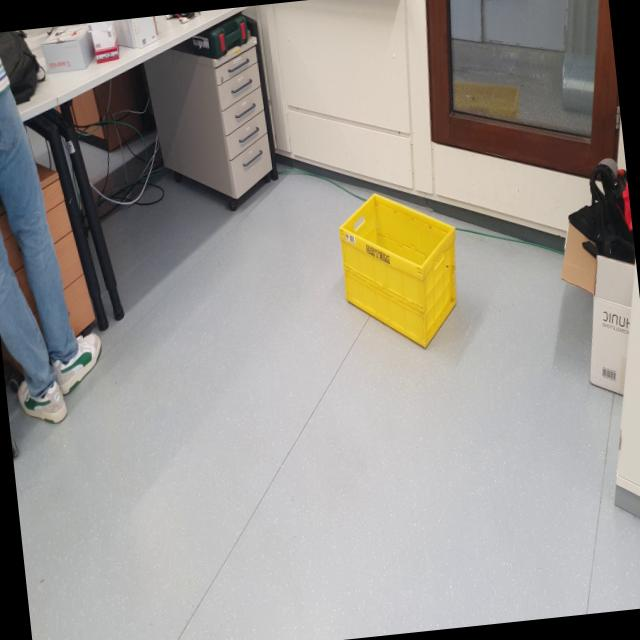box: (331, 174, 471, 361)
